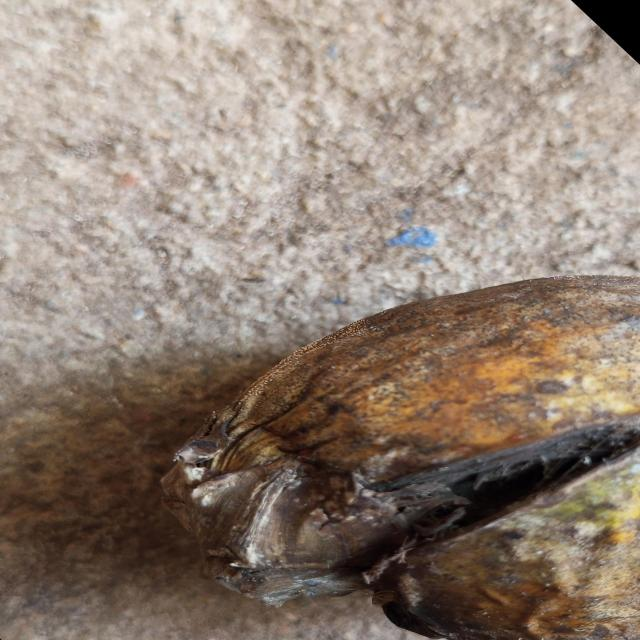damaged: (161, 271, 640, 640)
